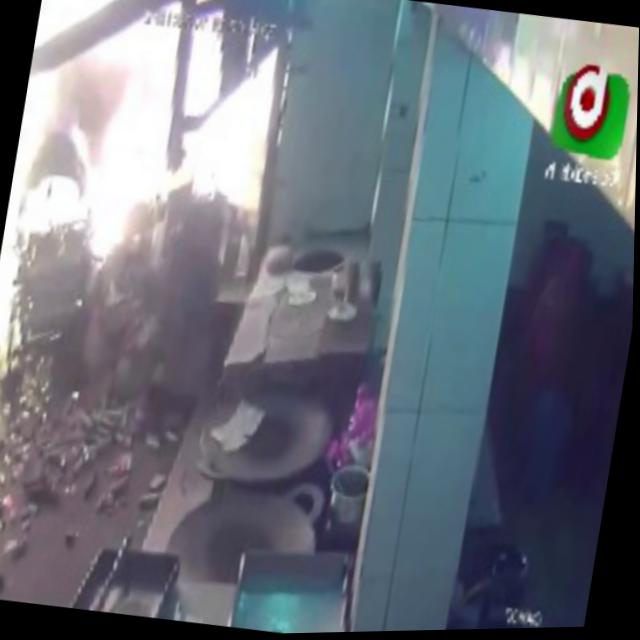fire: (170, 58, 279, 204), (97, 27, 181, 208), (37, 0, 136, 44)
